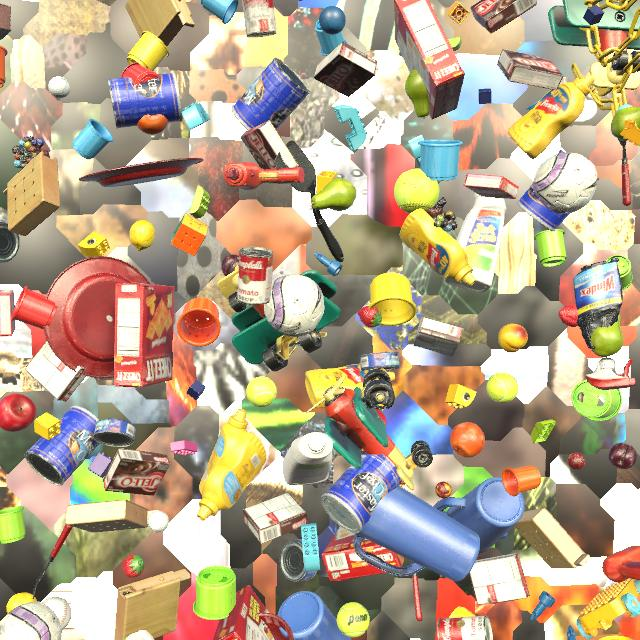ycb_002_master_chef_can: (517, 150, 599, 232), (321, 453, 402, 533), (25, 406, 100, 486), (231, 57, 310, 130), (108, 72, 182, 128)
ycb_003_cracker_box: (394, 0, 465, 119), (114, 283, 174, 387), (322, 526, 405, 581), (213, 585, 275, 640)
ycb_005_tomato_soup_can: (237, 247, 273, 305), (437, 616, 493, 640), (242, 0, 277, 38)
ycb_006_mustard_bottle: (508, 74, 595, 159), (197, 431, 267, 520), (400, 209, 476, 286), (199, 409, 248, 494), (305, 364, 395, 408)
ycb_007_tuna_fish_can: (280, 539, 317, 582), (93, 418, 136, 447), (359, 351, 400, 371), (0, 222, 20, 263)
ycb_008_pudding_box: (24, 341, 86, 402), (313, 41, 377, 97), (243, 492, 308, 544), (469, 553, 530, 605), (103, 449, 170, 496), (241, 120, 299, 169), (497, 49, 564, 90), (470, 0, 537, 34), (413, 316, 464, 357)
ycb_009_gelatin_box: (464, 173, 519, 199), (0, 290, 15, 337)
ycb_012_strawberry: (358, 306, 382, 328), (123, 554, 144, 578), (558, 305, 578, 327)
ycb_013_apple: (0, 393, 37, 432), (375, 409, 387, 426)
ycb_014_lemon: (129, 220, 155, 251), (6, 592, 38, 613)
ycb_015_peach: (498, 324, 528, 352)
ycb_016_pear: (311, 178, 357, 211), (591, 314, 624, 357), (405, 69, 431, 119), (611, 107, 640, 141)
ycb_017_orange: (450, 422, 485, 457), (137, 114, 168, 135)
ycb_018_plum: (608, 443, 637, 469), (221, 254, 239, 276)
